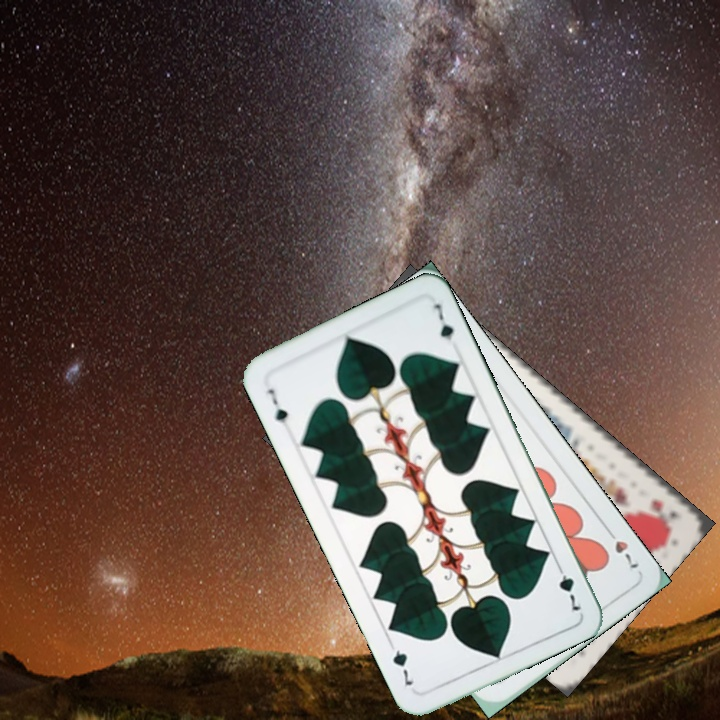G7: (551, 559, 584, 614), (263, 385, 291, 433)
H7: (601, 523, 642, 572)
HK: (646, 494, 679, 521)
